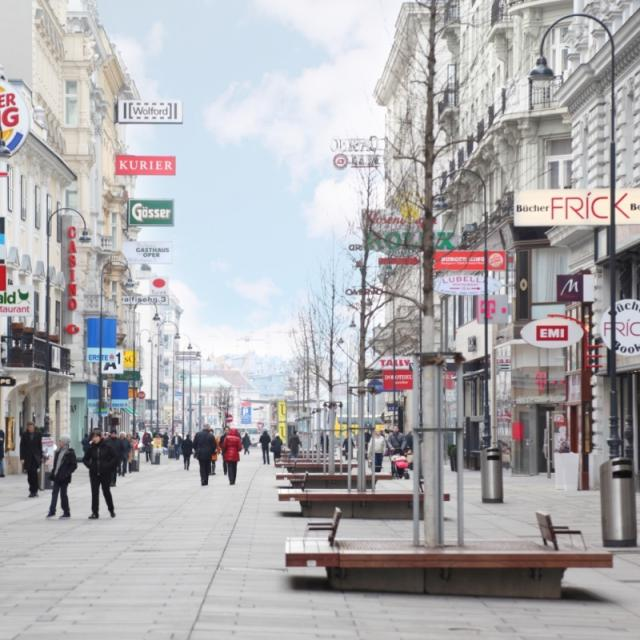body: (80, 428, 122, 522), (42, 434, 78, 522), (18, 421, 44, 498), (190, 421, 218, 487), (220, 426, 242, 486), (386, 425, 406, 478), (106, 429, 124, 487), (366, 428, 387, 472), (208, 428, 222, 476), (286, 430, 302, 469), (218, 425, 230, 476), (180, 434, 194, 471), (258, 429, 272, 465), (270, 432, 284, 463), (125, 432, 135, 474), (391, 451, 412, 471), (170, 431, 183, 463), (360, 427, 372, 461), (341, 434, 356, 461), (142, 433, 154, 462), (129, 431, 138, 466), (378, 427, 390, 450), (405, 429, 416, 454), (160, 431, 170, 456), (320, 429, 330, 454), (0, 428, 5, 477), (80, 433, 91, 455), (242, 432, 252, 455), (34, 426, 47, 435), (142, 430, 148, 445), (152, 430, 162, 439), (101, 429, 110, 438), (119, 432, 127, 442), (91, 426, 97, 430)
